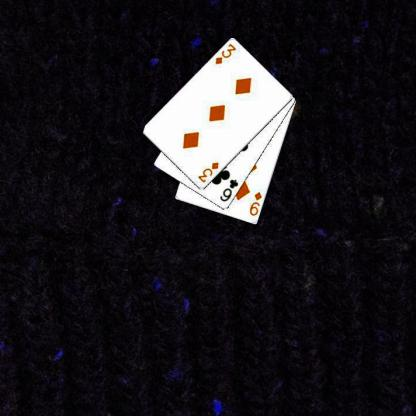3D: (195, 160, 220, 184), (213, 41, 237, 66)
6C: (218, 177, 240, 203)
9D: (247, 190, 263, 218)
